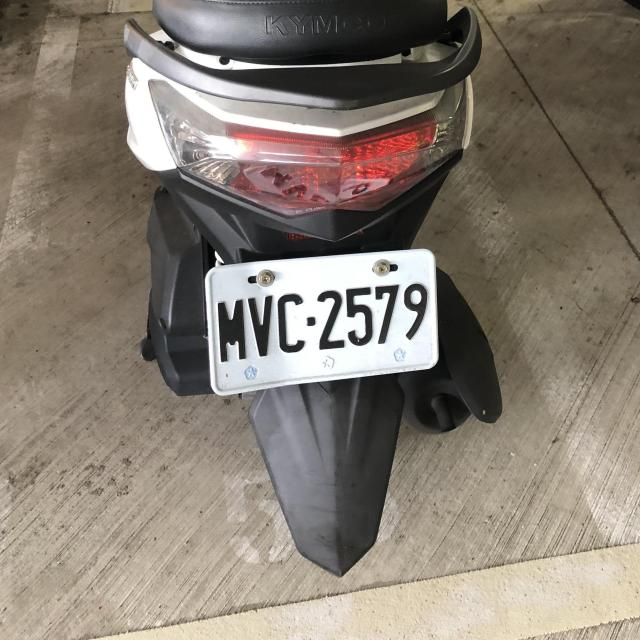W: (202, 248, 441, 393)
